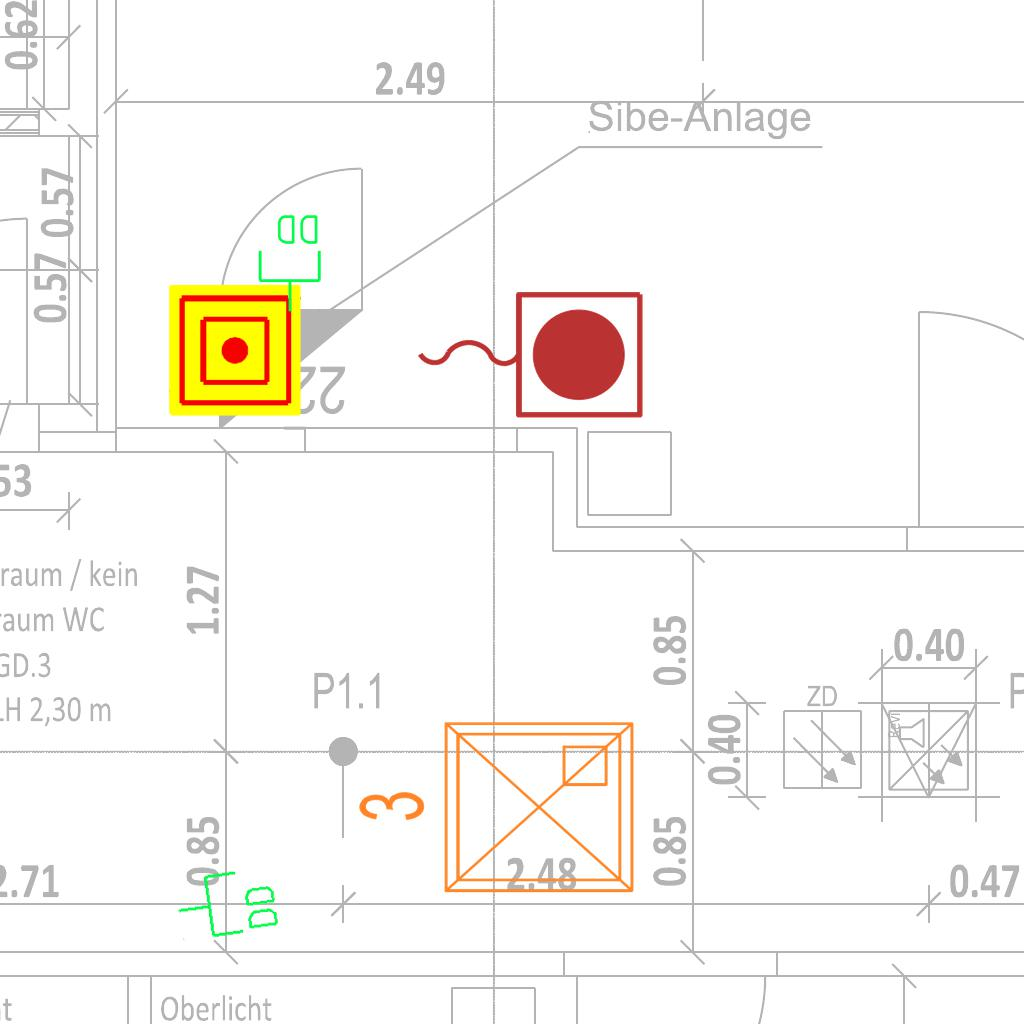Datenanschluss_zweifach: (171, 863, 284, 946), (256, 211, 325, 314)
Einbaudownlights_LED_Konferenzraeume: (348, 707, 648, 915)
NAM-Nichtautomatischer_Melder: (169, 284, 301, 416)
Zugtaster: (407, 281, 651, 425)
